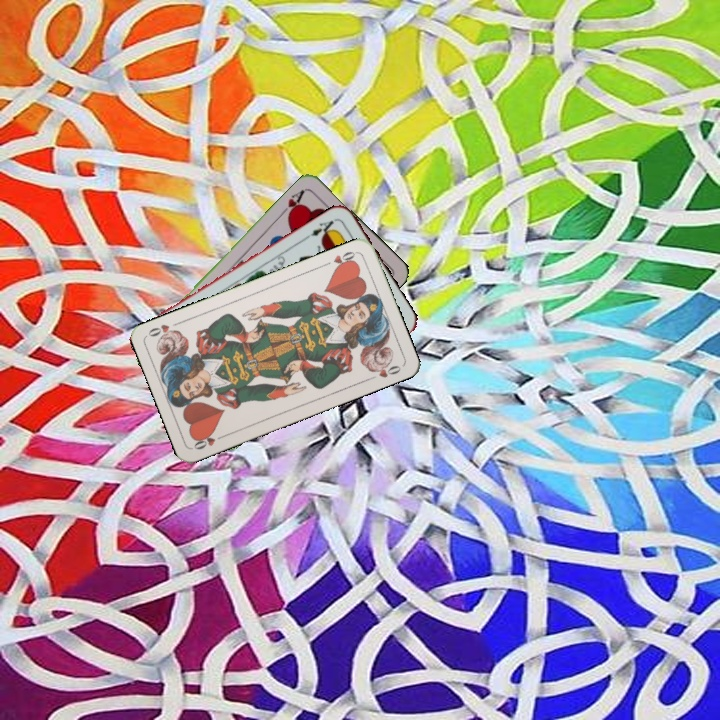EA: (302, 215, 339, 241)
HA: (277, 185, 309, 221)
HO: (320, 247, 359, 272), (190, 430, 228, 452)
